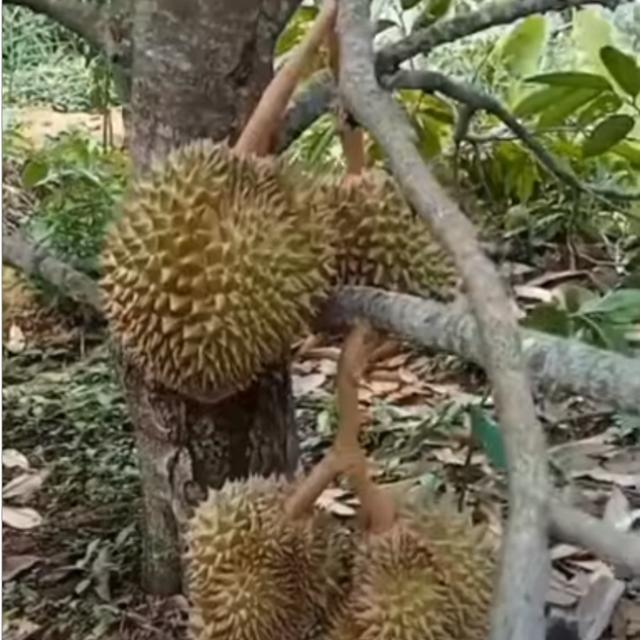mature: (93, 138, 328, 407), (175, 469, 335, 640), (348, 498, 498, 640)
